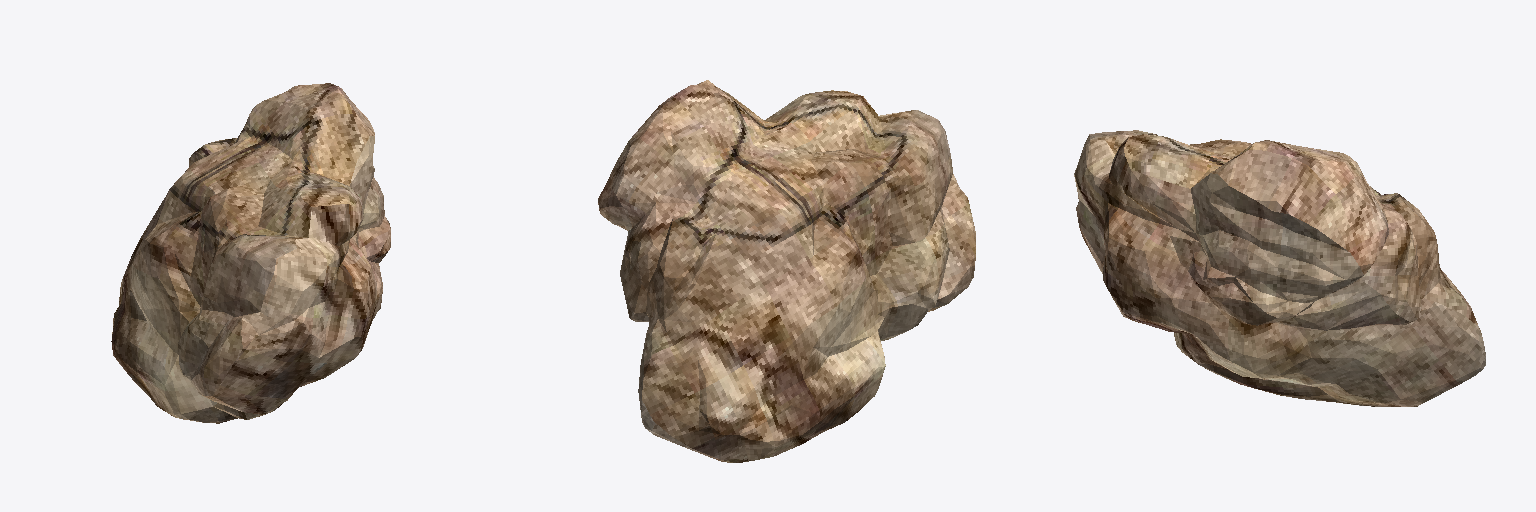
3 views of the same model, side by side, from view 1: azimuth 30°, elevation 25°; view 2: azimuth 150°, elevation 25°; view 3: azimuth 270°, elevation 25° (orthographic).
Parts seen in each view (by area): view 1: Rock; view 2: Rock; view 3: Rock.
Boxes of the visible parts, x1=… form: Rock: x1=111, y1=83, x2=390, y2=423; Rock: x1=598, y1=80, x2=975, y2=462; Rock: x1=1074, y1=130, x2=1485, y2=406.
Size of the model in its own units: 73.15 by 79.98 by 100.
Materials: 1 (1 with a texture image).